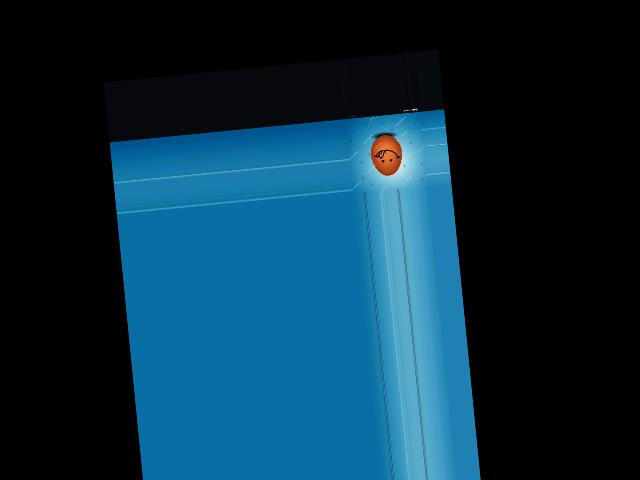egg: (368, 133, 403, 177)
